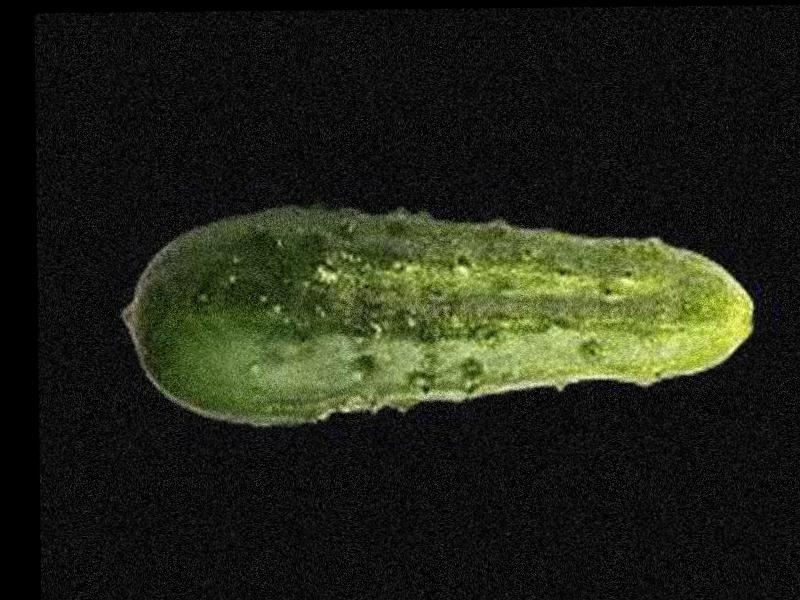Cucumber: (121, 195, 753, 427)
